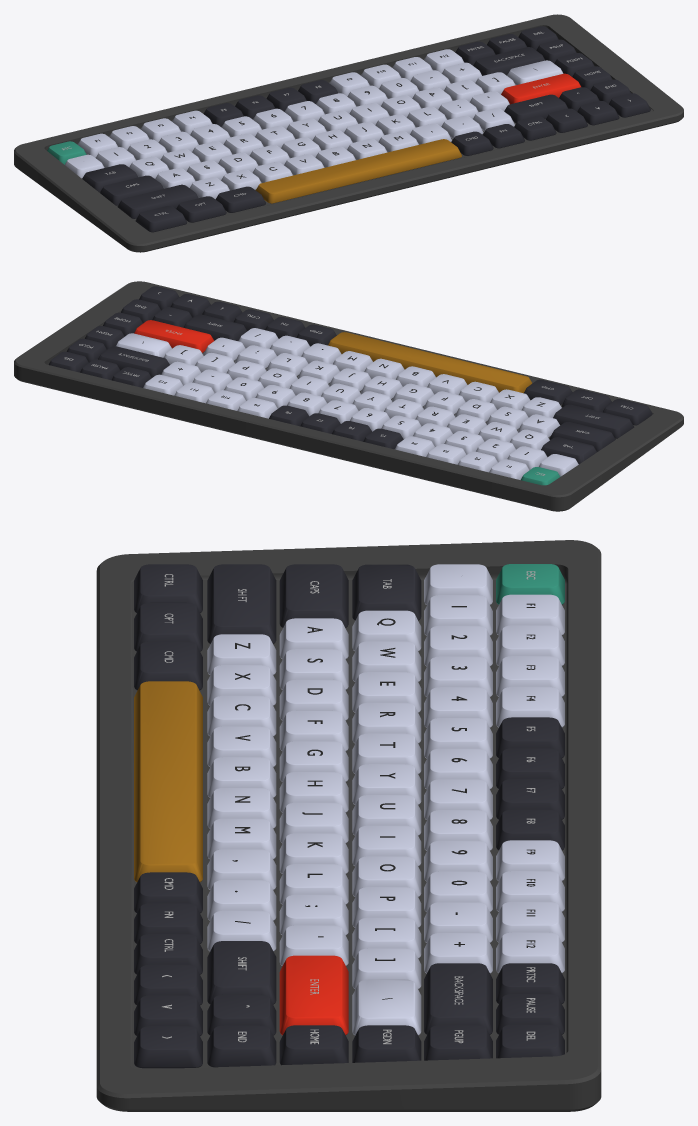
Rendered from keyboard-air75-1.glb.
3 renders of one model, top to bottom at view 1: azimuth 30°, elevation 25°; view 2: azimuth 150°, elevation 25°; view 3: azimuth 270°, elevation 25°, orthographic. The views are drawn at different scales.
Visible parts, largest first — view 1: Board, Row2, 4-SPACE.001, 1LShift.001, 24enter.001, 13-Backspace.001, 33RShift.001, 1caps.001, 1-CTRL.001, 3-ALT.001, 2-META.001, 0Tab.001 (+64 smaller); view 2: Board, Row2, 4-SPACE.001, 1LShift.001, 24enter.001, 13-Backspace.001, 1caps.001, 33RShift.001, 0Tab.001, 13\.001, 1-CTRL.001, 3-ALT.001 (+64 smaller); view 3: Board, Row2, 4-SPACE.001, 1LShift.001, 24enter.001, 13-Backspace.001, 1caps.001, 33RShift.001, 0Tab.001, 13\.001, 3-ALT.001, 10-RIGHT.001 (+64 smaller).
Part boxes in pixels (bbox=[...]): Board: bbox=[14, 14, 683, 252]; Row2: bbox=[96, 78, 418, 167]; 4-SPACE.001: bbox=[255, 139, 461, 203]; 1LShift.001: bbox=[117, 184, 198, 218]; 24enter.001: bbox=[501, 73, 580, 104]; 13-Backspace.001: bbox=[473, 47, 545, 75]; 33RShift.001: bbox=[504, 94, 567, 123]; 1caps.001: bbox=[100, 175, 163, 205]; 1-CTRL.001: bbox=[135, 206, 186, 232]; 3-ALT.001: bbox=[215, 186, 265, 212]; 2-META.001: bbox=[176, 196, 226, 222]; 0Tab.001: bbox=[82, 164, 137, 192]; Board: bbox=[14, 281, 683, 511]; Row2: bbox=[224, 377, 547, 469]; 4-SPACE.001: bbox=[328, 332, 532, 393]; 1LShift.001: bbox=[553, 404, 634, 438]; 24enter.001: bbox=[134, 320, 214, 352]; 13-Backspace.001: bbox=[98, 346, 169, 377]; 1caps.001: bbox=[549, 422, 615, 451]; 33RShift.001: bbox=[183, 314, 247, 340]; 0Tab.001: bbox=[541, 437, 596, 464]; 13\.001: bbox=[116, 333, 171, 357]; 1-CTRL.001: bbox=[603, 399, 652, 425]; 3-ALT.001: bbox=[524, 379, 572, 404]; Board: bbox=[96, 540, 601, 1111]; Row2: bbox=[424, 595, 492, 911]; 4-SPACE.001: bbox=[134, 681, 202, 881]; 1LShift.001: bbox=[207, 564, 276, 643]; 24enter.001: bbox=[279, 955, 348, 1035]; 13-Backspace.001: bbox=[424, 963, 492, 1034]; 1caps.001: bbox=[279, 564, 348, 627]; 33RShift.001: bbox=[207, 941, 276, 1004]; 0Tab.001: bbox=[352, 564, 421, 620]; 13\.001: bbox=[352, 979, 421, 1035]; 3-ALT.001: bbox=[134, 641, 202, 690]; 10-RIGHT.001: bbox=[134, 1026, 202, 1068].
Size of the model in its own units: 3.44 by 0.1064 by 1.35.
